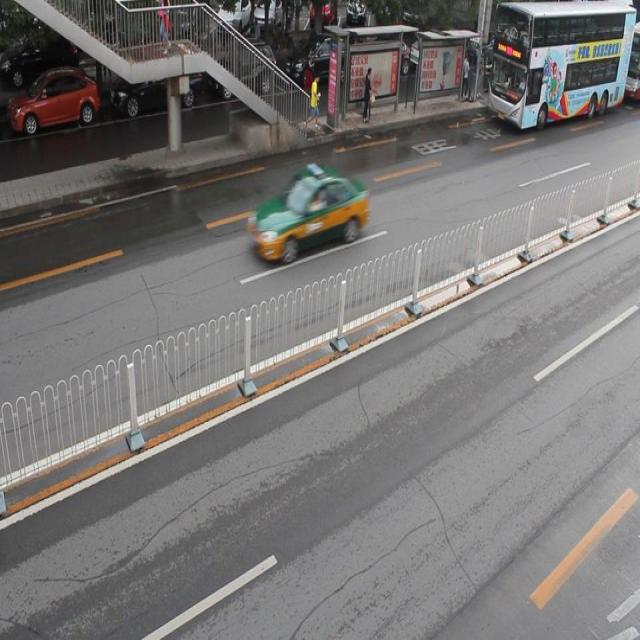car: (252, 163, 367, 260), (111, 50, 201, 116), (11, 70, 100, 134), (212, 38, 278, 102), (284, 33, 354, 88)
van: (485, 1, 632, 127)
